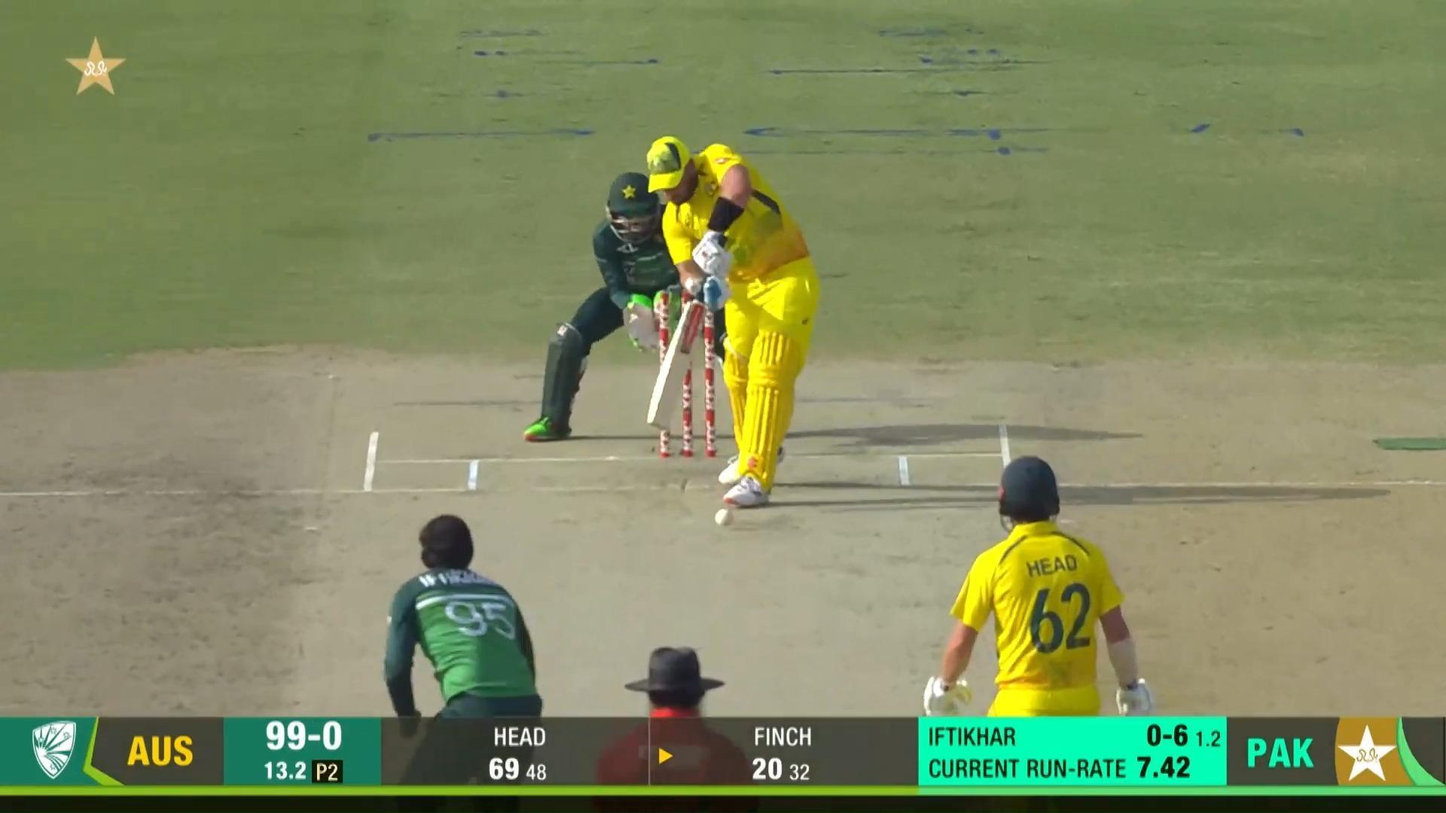BM 1: (645, 135, 820, 507)
BO: (382, 510, 549, 813)
